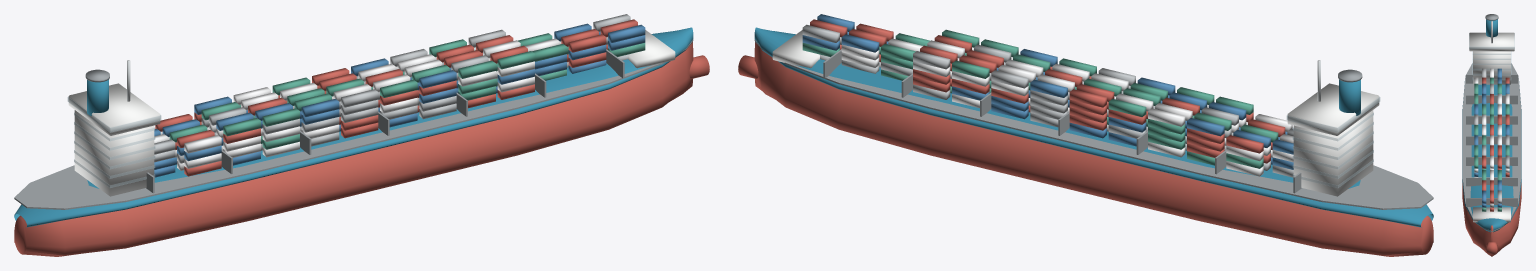
Rendered from container_vessel_export.glb.
3 renders of one model, left to right at view 1: azimuth 30°, elevation 25°; view 2: azimuth 150°, elevation 25°; view 3: azimuth 270°, elevation 25°, orthographic. The views are drawn at different scales.
Parts seen in each view (by area): view 1: CV_Hull, CV_Topside, CV_Deck, CV_AccBlock, CV_Bridge, CV_Forecastle, CV_Funnel, CV_BridgeGlass, CV_Cont_12_2_3, CV_Cont_5_1_4, CV_Cont_2_1_3, CV_Cont_3_1_4 (+7 smaller); view 2: CV_Hull, CV_Topside, CV_Deck, CV_AccBlock, CV_Bridge, CV_Forecastle, CV_Funnel, CV_BridgeGlass, CV_Cont_12_4_3, CV_Cont_5_5_4, CV_Cont_2_5_3, CV_Cont_3_5_4 (+7 smaller); view 3: CV_Topside, CV_Deck, CV_Hull, CV_AccBlock, CV_Bridge, CV_Forecastle, CV_Lashing5, CV_Lashing6, CV_Lashing2, CV_Lashing3, CV_Lashing1, CV_Lashing4 (+51 smaller).
Boxes of the visible parts, <box> form: CV_Hull: <box>14,42,693,256</box>; CV_Topside: <box>14,27,693,227</box>; CV_Deck: <box>14,39,693,209</box>; CV_AccBlock: <box>74,110,154,196</box>; CV_Bridge: <box>68,83,160,135</box>; CV_Forecastle: <box>628,30,675,68</box>; CV_Funnel: <box>87,79,108,115</box>; CV_BridgeGlass: <box>67,97,161,132</box>; CV_Cont_12_2_3: <box>568,34,606,52</box>; CV_Cont_5_1_4: <box>301,99,339,116</box>; CV_Cont_2_1_3: <box>184,135,221,153</box>; CV_Cont_3_1_4: <box>223,118,260,136</box>; CV_Hull: <box>754,42,1433,256</box>; CV_Topside: <box>754,27,1433,227</box>; CV_Deck: <box>754,39,1433,209</box>; CV_AccBlock: <box>1293,110,1373,196</box>; CV_Bridge: <box>1287,83,1379,135</box>; CV_Forecastle: <box>772,30,819,68</box>; CV_Funnel: <box>1339,79,1360,115</box>; CV_BridgeGlass: <box>1286,97,1380,132</box>; CV_Cont_12_4_3: <box>841,34,879,52</box>; CV_Cont_5_5_4: <box>1108,99,1146,116</box>; CV_Cont_2_5_3: <box>1226,135,1263,153</box>; CV_Cont_3_5_4: <box>1187,118,1224,136</box>; CV_Topside: <box>1462,81,1521,232</box>; CV_Deck: <box>1462,63,1521,231</box>; CV_Hull: <box>1462,183,1521,256</box>; CV_AccBlock: <box>1473,51,1510,84</box>; CV_Bridge: <box>1469,32,1514,51</box>; CV_Forecastle: <box>1473,207,1510,222</box>; CV_Lashing5: <box>1466,177,1517,186</box>; CV_Lashing6: <box>1466,198,1517,206</box>; CV_Lashing2: <box>1466,115,1517,124</box>; CV_Lashing3: <box>1466,136,1517,145</box>; CV_Lashing1: <box>1466,95,1517,104</box>; CV_Lashing4: <box>1466,157,1517,165</box>.
Size of the model in its own units: 244 by 59.65 by 34.14.
